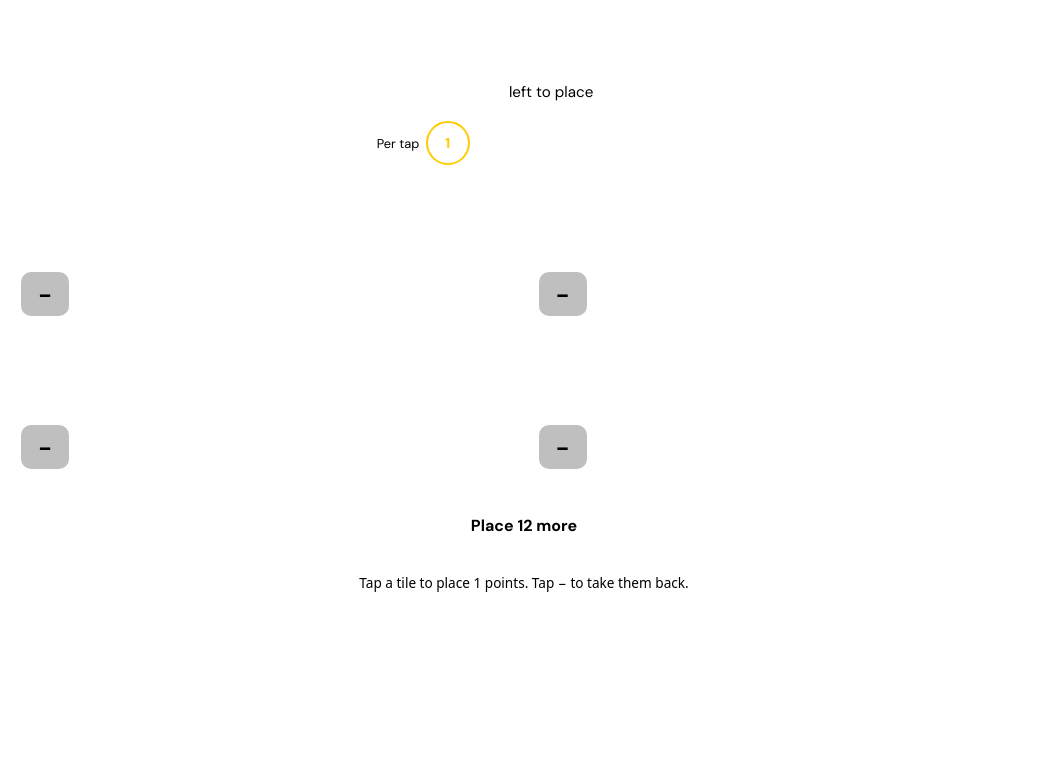
Test: <DropBoard> › uses 1-point taps when the pool is not a multiple of 5
This screenshot has width=1048, height=780.
What coordinates should you click on to do the following:
click the button with aria-label "Add 1 points to Tile a"
I would click on:
 (265, 254)
Its box is left=13, top=184, right=517, bottom=324.
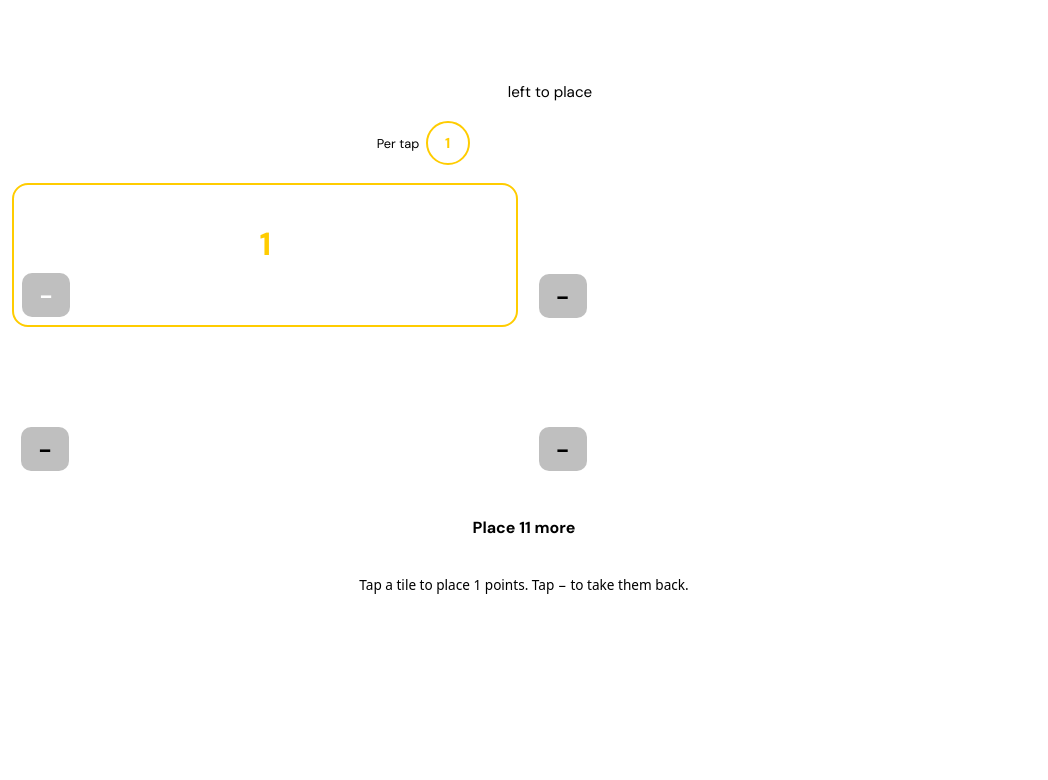
Result: the button "Place 11 more" is shown at left=12, top=498, right=1036, bottom=558
